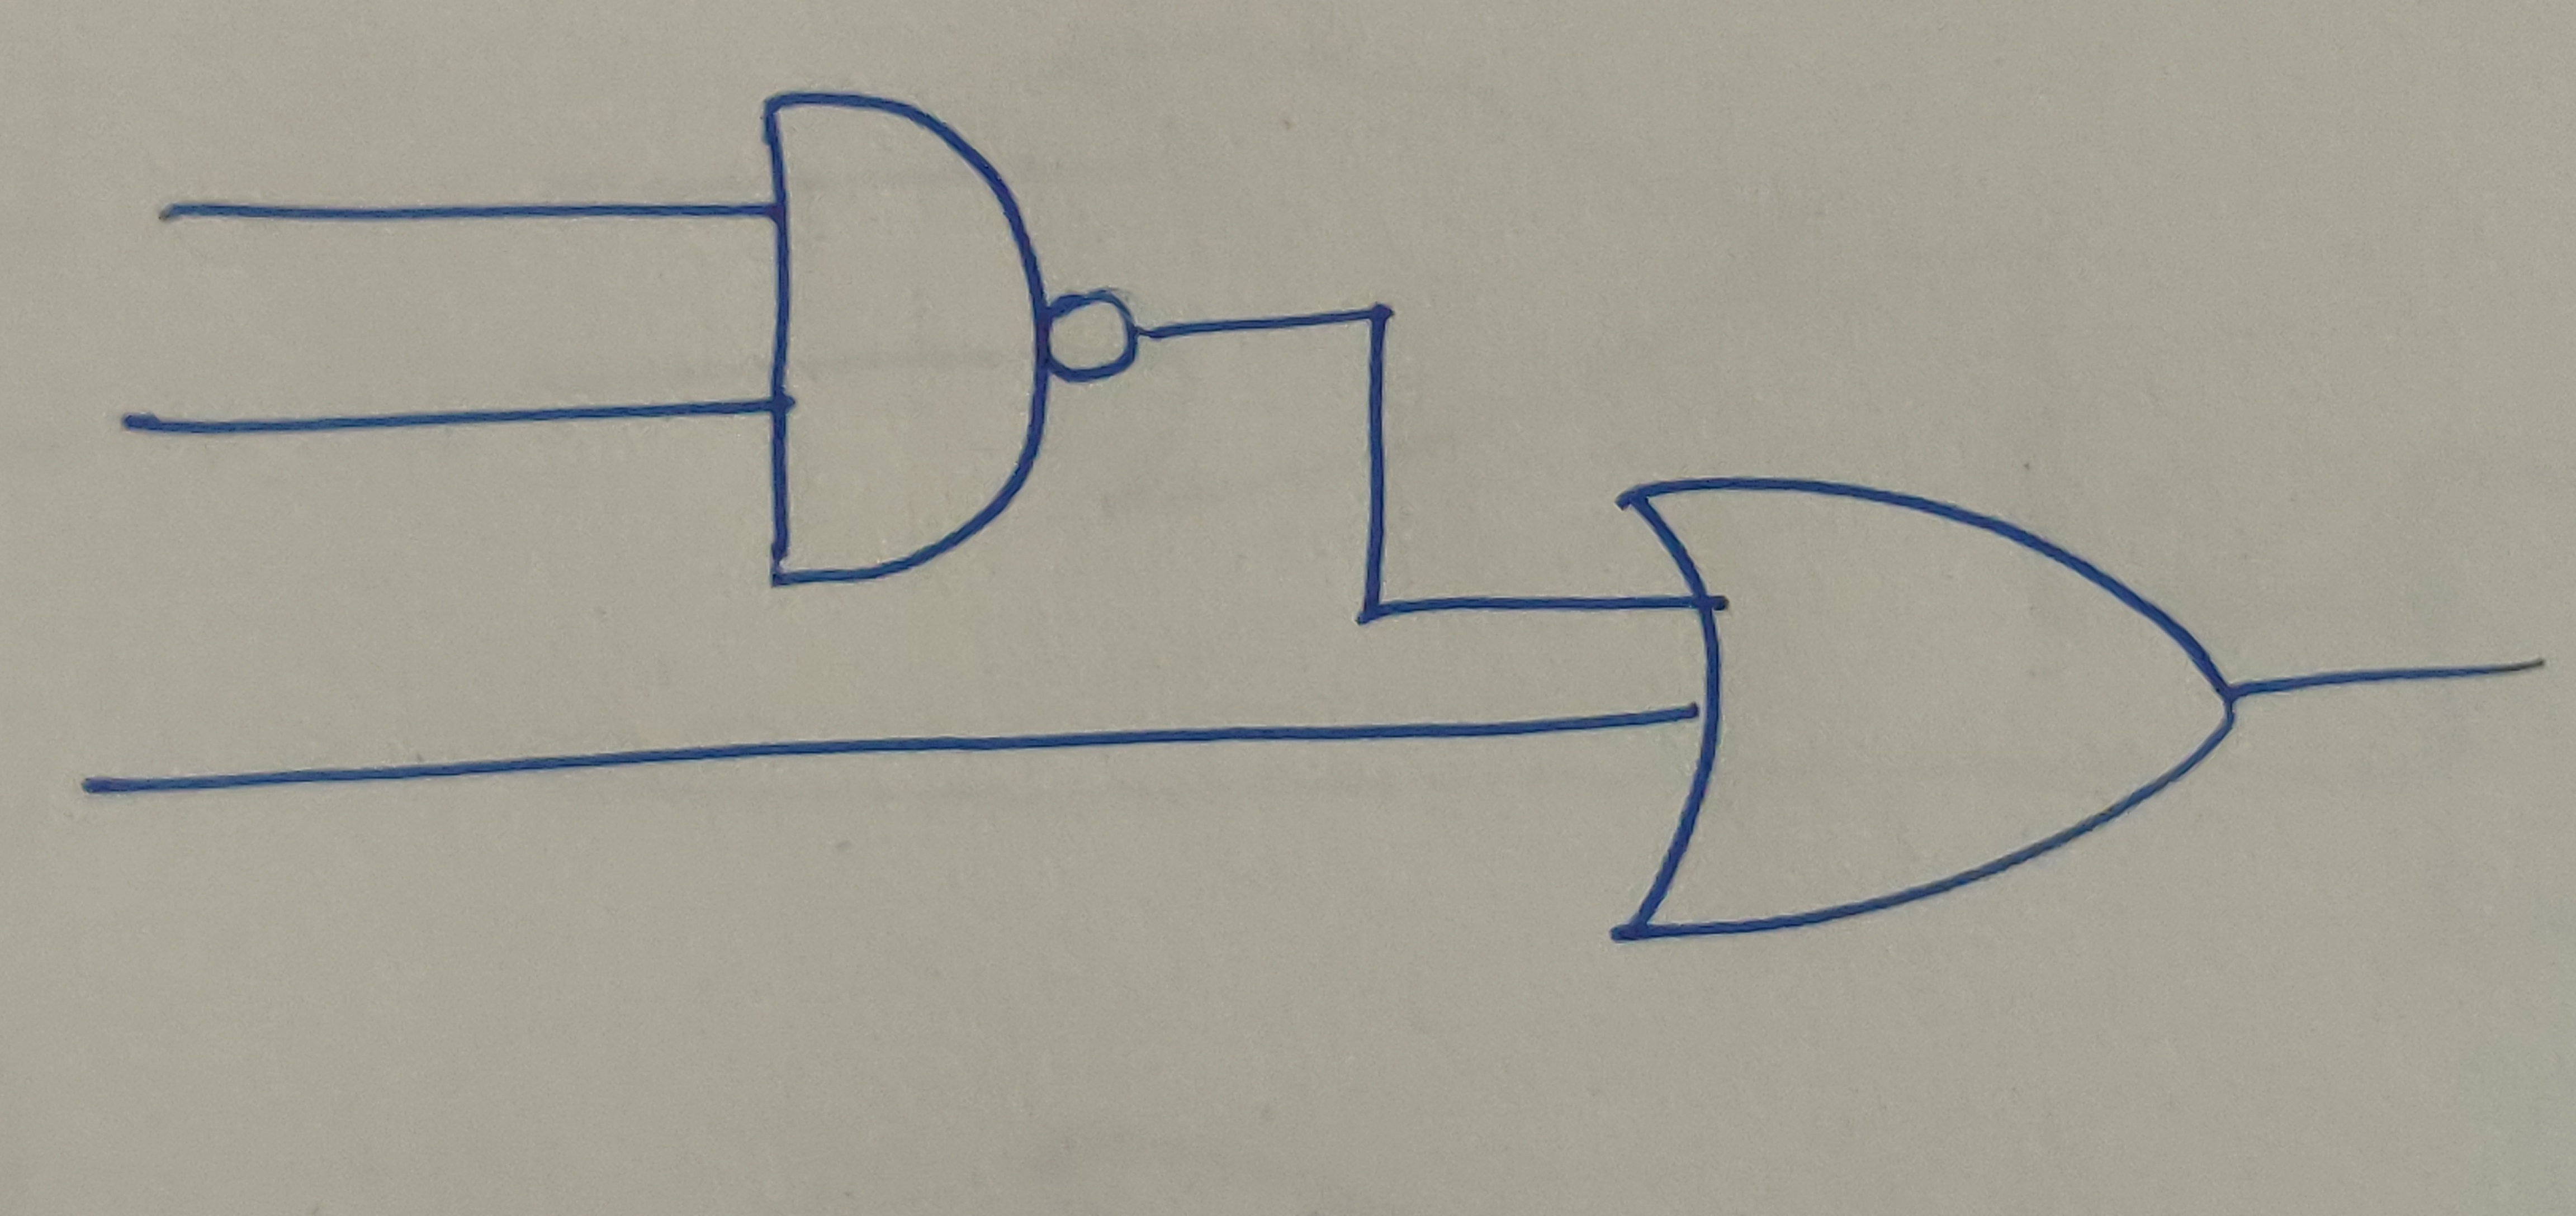and: (757, 89, 1048, 588)
not: (1042, 283, 1143, 391)
or: (1620, 473, 2241, 947)
